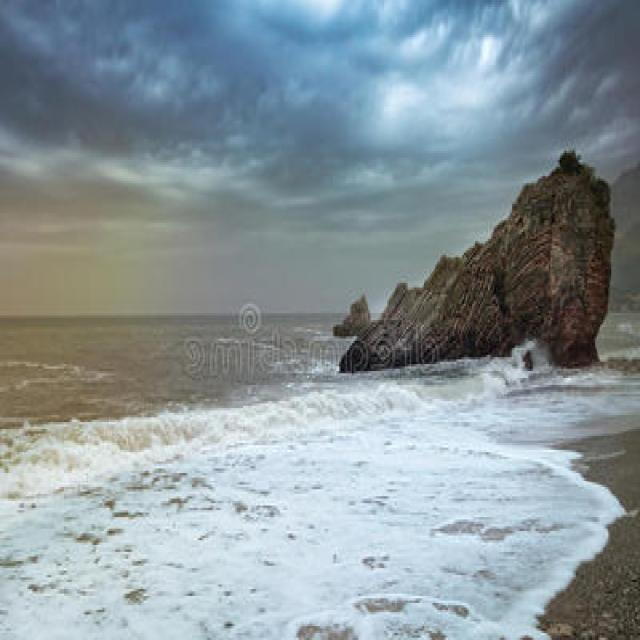reef: (332, 246, 578, 410)
